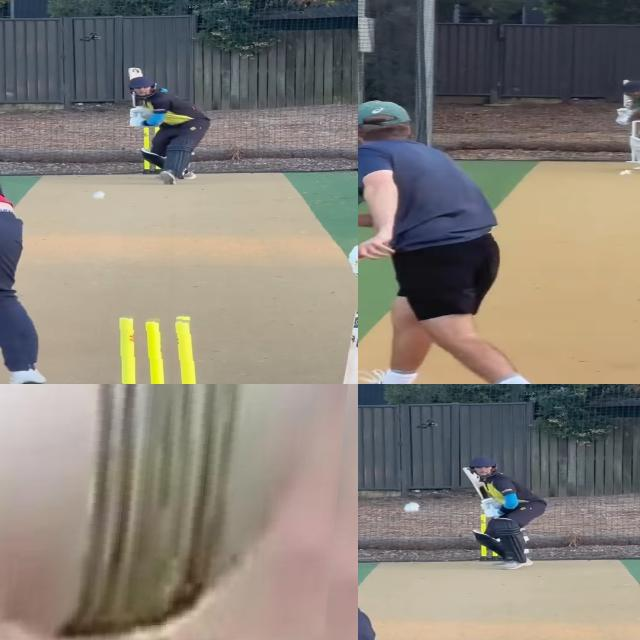Cricket ball: (0, 384, 358, 640), (402, 502, 421, 514), (91, 190, 109, 201), (617, 169, 636, 179)
Stumps: (107, 313, 213, 384)
